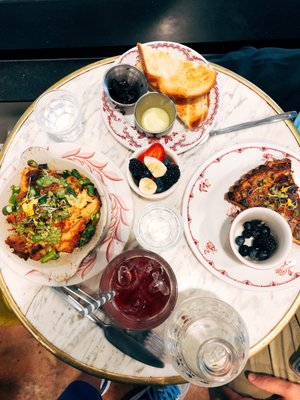burger: (49, 284, 164, 367)
pizza: (132, 203, 182, 260)
sushi: (97, 249, 178, 332), (228, 207, 292, 270), (125, 141, 181, 201)
